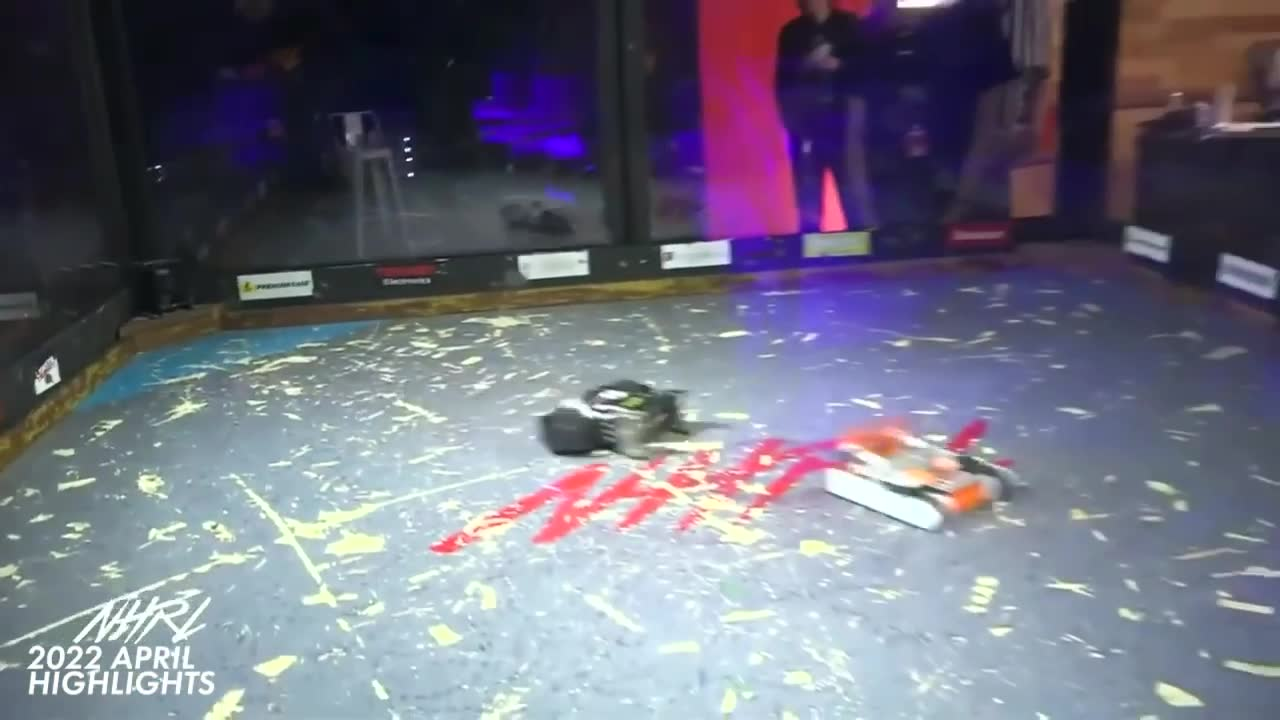combatbot: (827, 416, 1022, 533), (543, 381, 696, 454)
